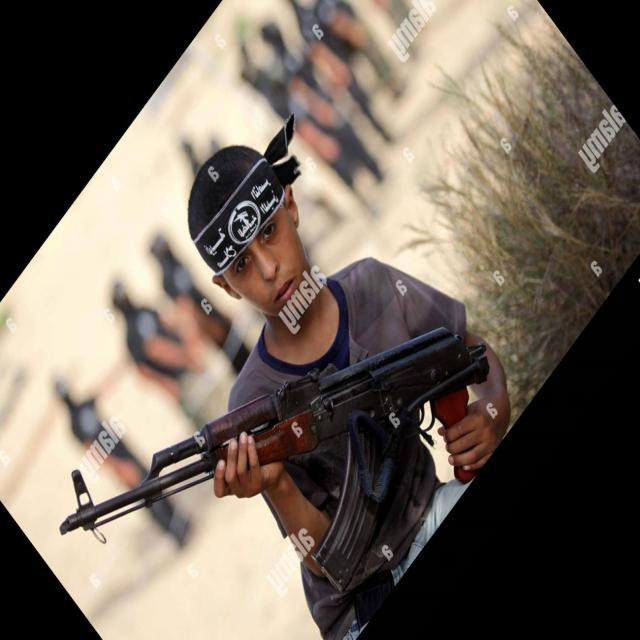weapon: (61, 326, 490, 596)
